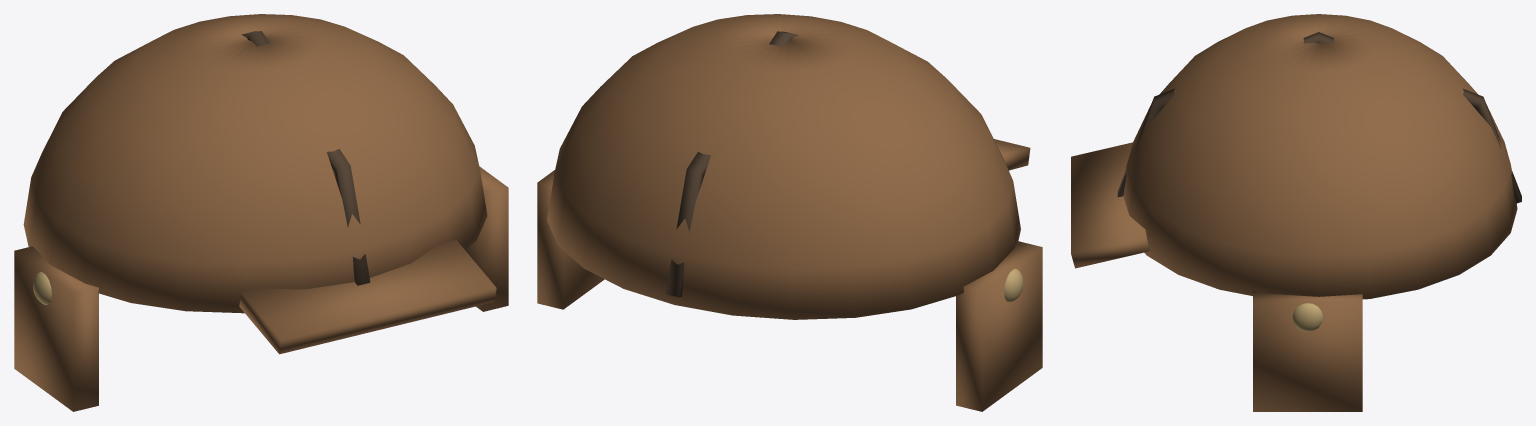
The model's file is helm-hunter.glb.
3 renders of one model, left to right at view 1: azimuth 30°, elevation 25°; view 2: azimuth 150°, elevation 25°; view 3: azimuth 270°, elevation 25°, orthographic. The views are drawn at different scales.
Parts seen in each view (by area): view 1: garment, Cube, Cube.001, Cube.002, strip, Sphere; view 2: garment, Cube.001, Cube.002, strip, Cube, Sphere; view 3: garment, Cube.002, Cube, strip, Sphere.001.
Part boxes in pixels (left/top/right/bottom): garment: left=23, top=14, right=487, bottom=313; Cube: left=239, top=240, right=496, bottom=354; Cube.001: left=14, top=246, right=98, bottom=411; Cube.002: left=465, top=166, right=508, bottom=311; strip: left=241, top=31, right=370, bottom=285; Sphere: left=33, top=272, right=51, bottom=304; garment: left=547, top=14, right=1020, bottom=319; Cube.001: left=956, top=241, right=1042, bottom=411; Cube.002: left=537, top=170, right=604, bottom=309; strip: left=665, top=31, right=798, bottom=297; Cube: left=994, top=139, right=1030, bottom=170; Sphere: left=1004, top=268, right=1023, bottom=302; garment: left=1123, top=14, right=1517, bottom=299; Cube.002: left=1253, top=291, right=1362, bottom=411; Cube: left=1071, top=142, right=1149, bottom=268; strip: left=1117, top=32, right=1521, bottom=203; Sphere.001: left=1292, top=303, right=1323, bottom=331.
Bounding box in the file's own units: 0.88 × 0.56 × 0.8215.
